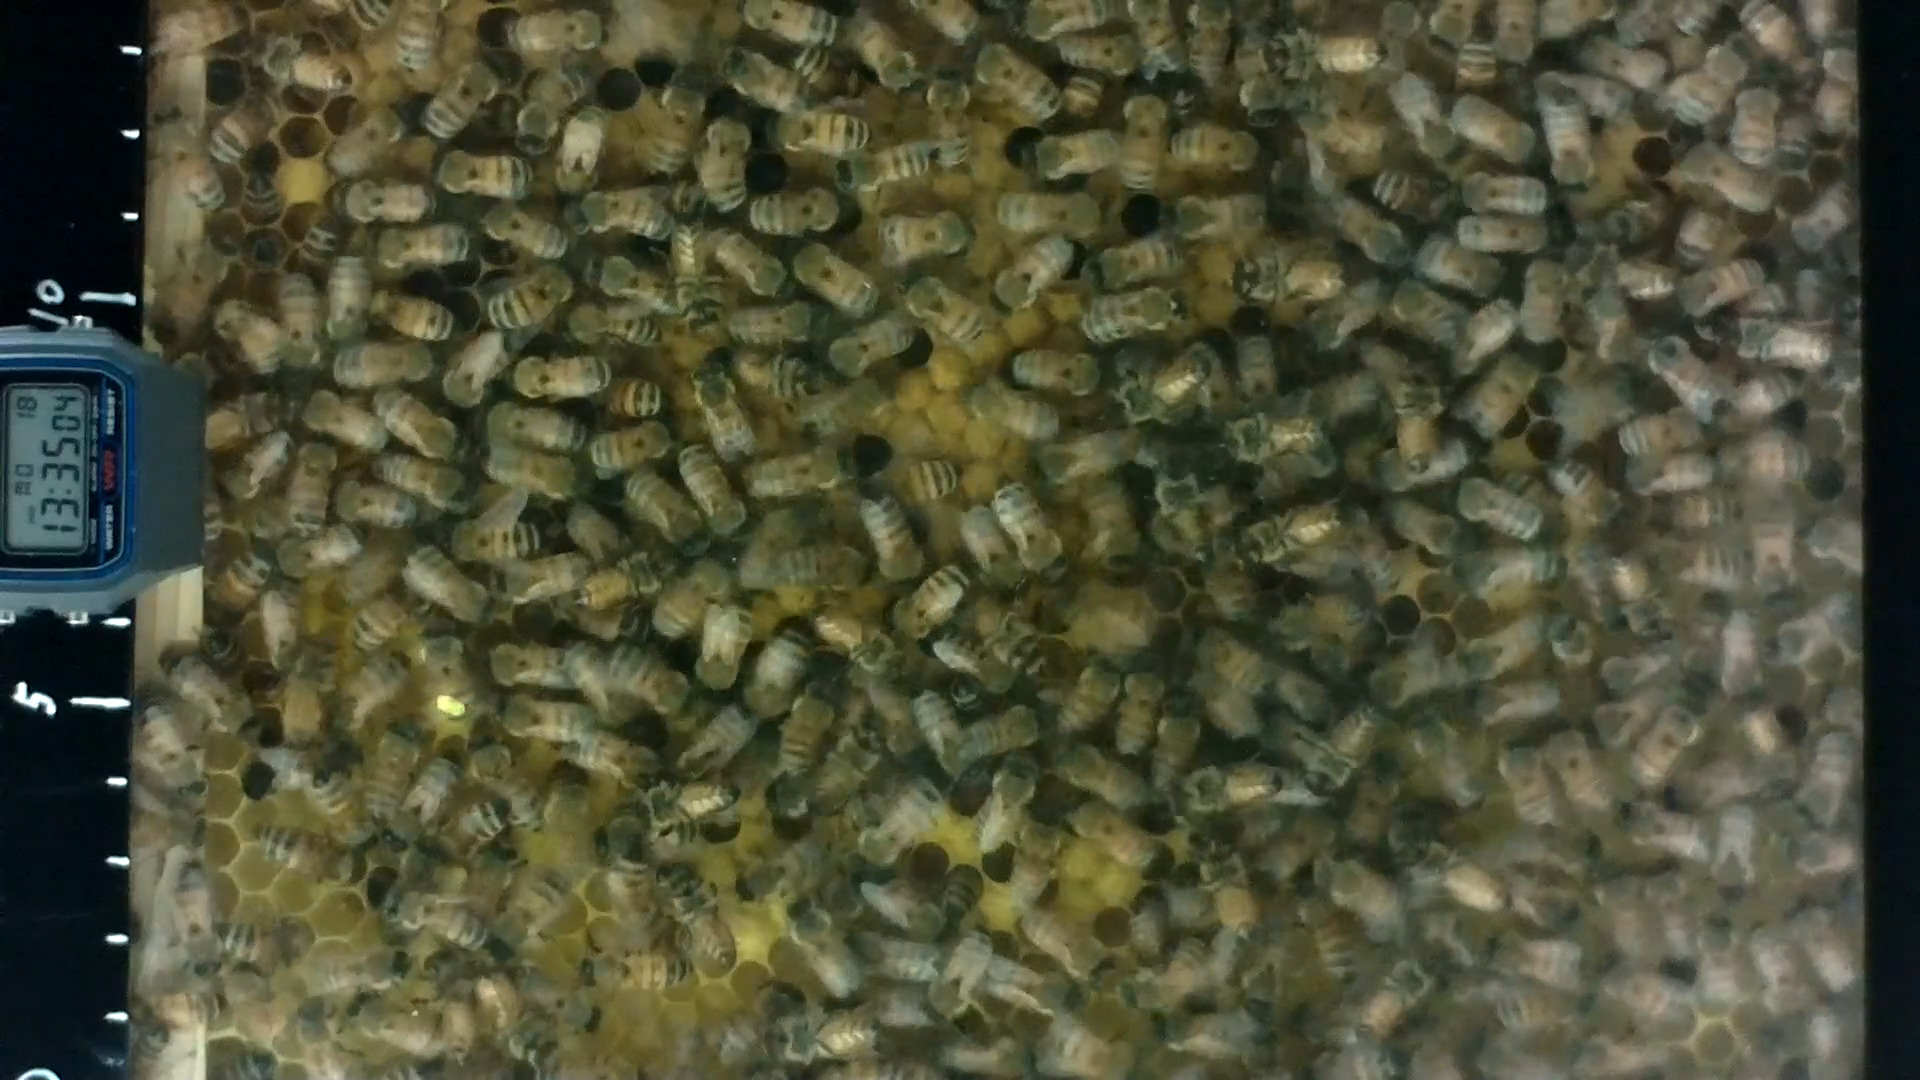hati: (235, 819, 364, 899), (167, 646, 257, 740), (634, 71, 709, 181), (968, 44, 1063, 127), (1004, 481, 1069, 599), (781, 899, 857, 1000), (480, 261, 582, 336), (787, 243, 885, 320), (690, 363, 760, 469), (990, 231, 1072, 320), (567, 185, 676, 247), (1085, 227, 1189, 291), (495, 9, 613, 66), (502, 351, 629, 404), (740, 446, 849, 506), (253, 34, 353, 100), (698, 104, 753, 222), (881, 570, 973, 640), (1449, 477, 1544, 545), (418, 65, 502, 138), (899, 265, 973, 349), (853, 492, 919, 585), (207, 92, 285, 171), (575, 951, 699, 1000), (1116, 88, 1171, 196), (986, 189, 1110, 236), (865, 208, 975, 261), (323, 103, 402, 175), (829, 313, 913, 381), (1540, 88, 1596, 189), (330, 338, 427, 394), (746, 190, 851, 243), (1453, 165, 1553, 219), (476, 207, 574, 262), (692, 596, 748, 694), (1734, 74, 1784, 181), (1023, 127, 1120, 182), (771, 108, 872, 161), (378, 224, 471, 281), (433, 517, 537, 566), (430, 149, 527, 200), (1087, 287, 1179, 342), (328, 481, 419, 535), (1498, 742, 1553, 831), (930, 66, 977, 169), (266, 530, 361, 582), (330, 179, 435, 224), (1681, 258, 1760, 316), (1167, 127, 1258, 177), (781, 680, 825, 781), (327, 243, 368, 347), (1004, 344, 1096, 389), (589, 423, 669, 473)
